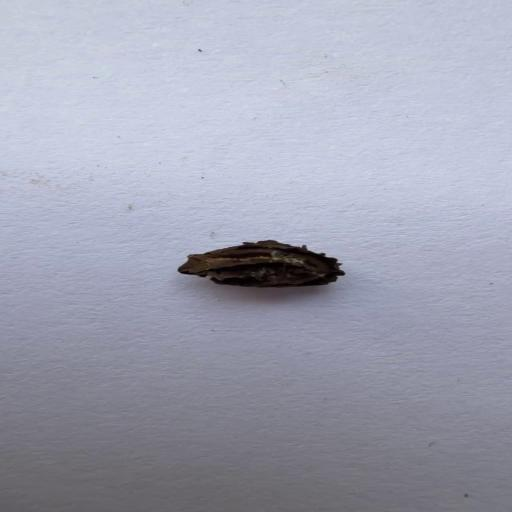papaya_seed: (133, 216, 357, 307)
